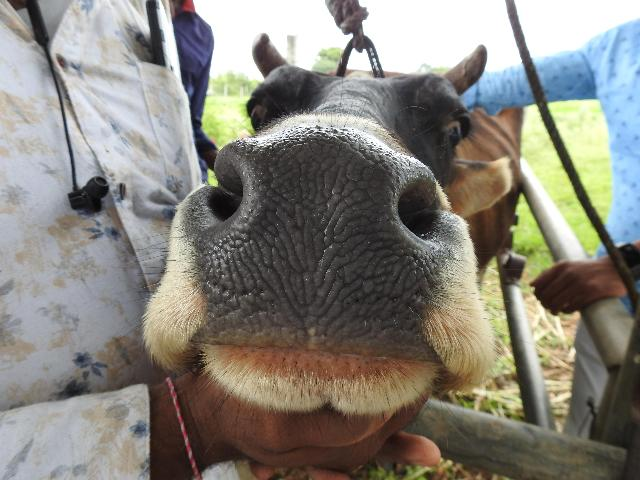Muzzle: (244, 141, 400, 339)
